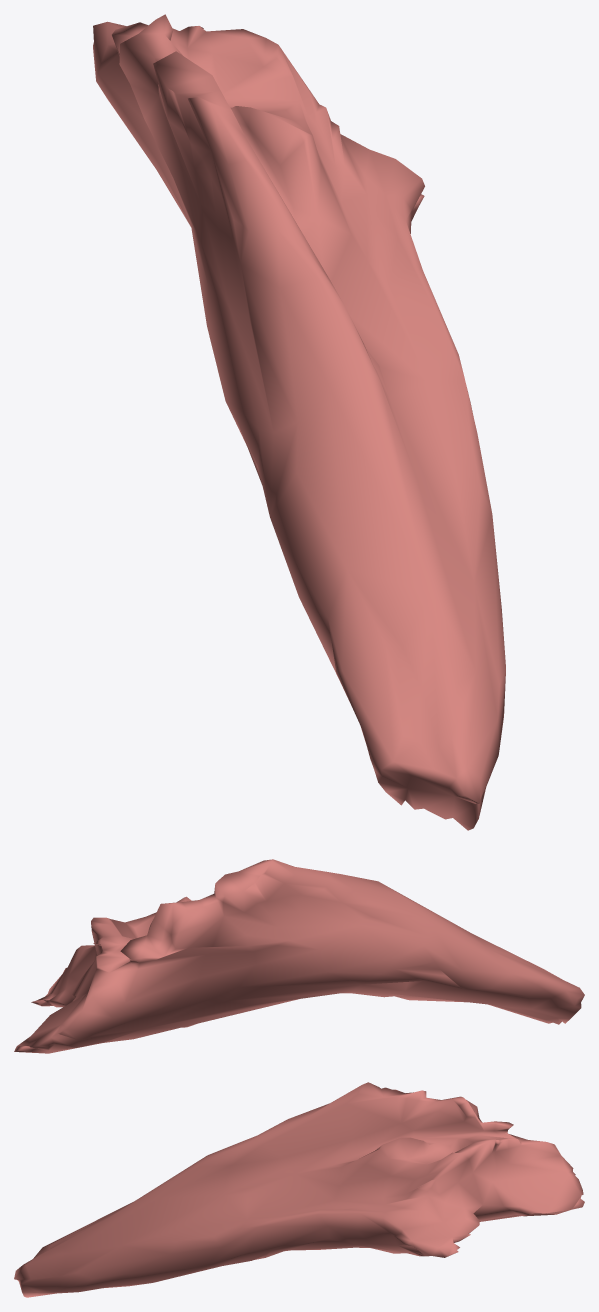
3 views of the same model, one above another, from view 1: azimuth 30°, elevation 25°; view 2: azimuth 150°, elevation 25°; view 3: azimuth 270°, elevation 25° (orthographic). The views are drawn at different scales.
Parts seen in each view (by area): view 1: ZA_19c431b38d98481d; view 2: ZA_19c431b38d98481d; view 3: ZA_19c431b38d98481d.
Part boxes in pixels (x1,y1,x2,y2): ZA_19c431b38d98481d: (93,14,505,830); ZA_19c431b38d98481d: (14,859,584,1053); ZA_19c431b38d98481d: (14,1082,584,1297).
Size of the model in its own units: 0.028 by 0.0301 by 0.0668.
